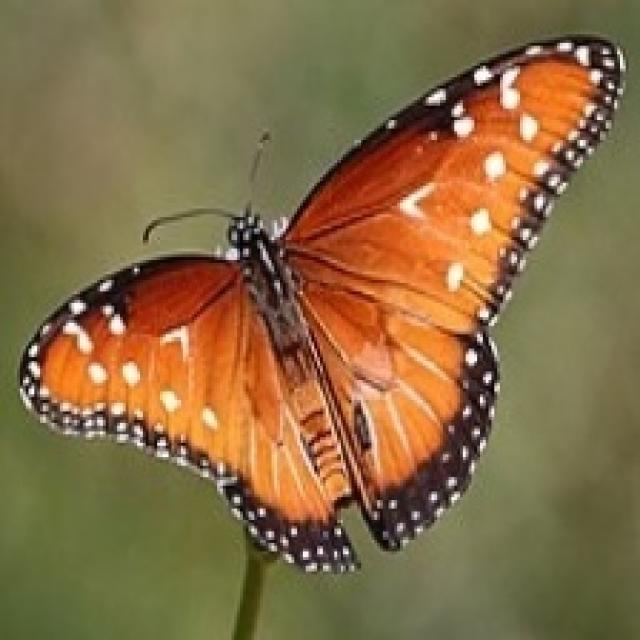butterfly: (14, 29, 626, 574)
